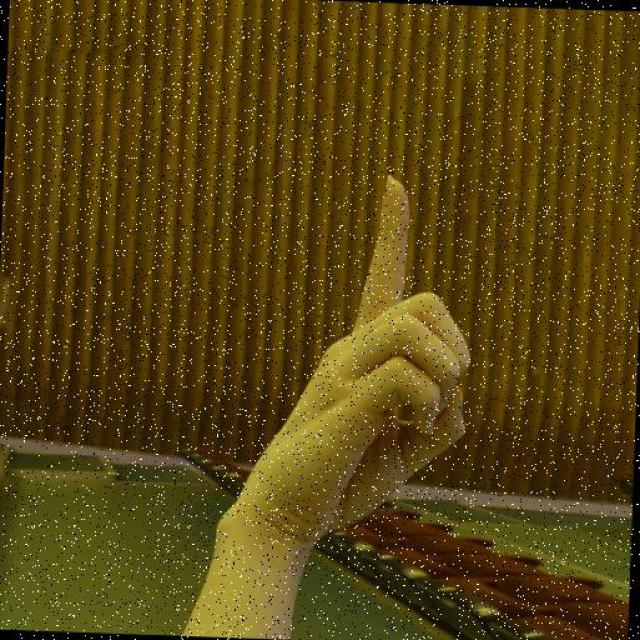D: (211, 162, 484, 560)
